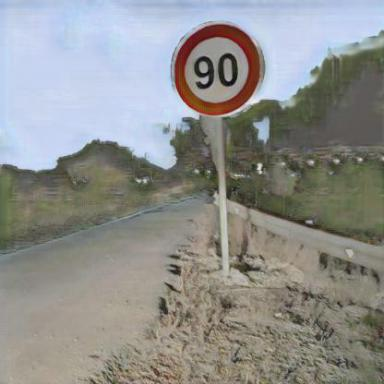Speed_limit_90: (174, 19, 260, 119)
